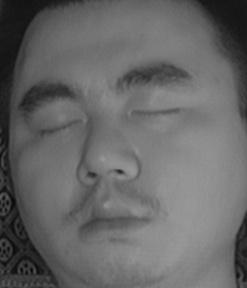blink: (131, 95, 182, 130), (33, 109, 85, 143)
mouth: (68, 189, 163, 247)
